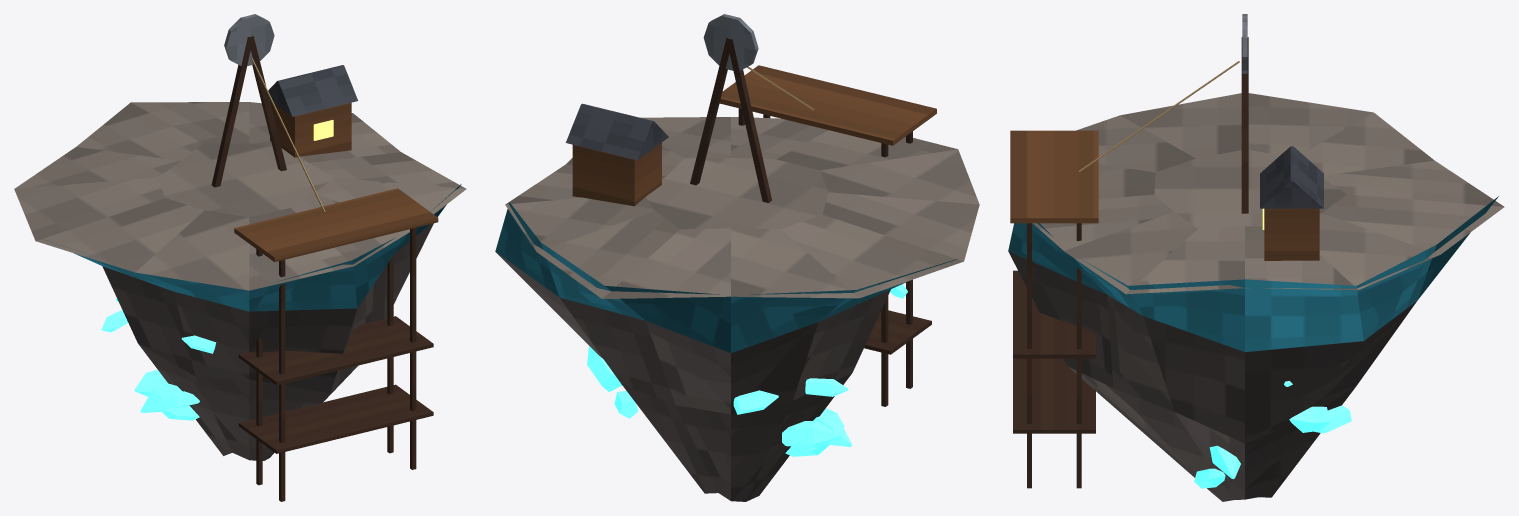
The model's file is SM_Env_LiftMine_HQ.glb.
The picture shows the model from 3 angles, left to right: view 1: azimuth 30°, elevation 25°; view 2: azimuth 150°, elevation 25°; view 3: azimuth 270°, elevation 25°; orthographic projection. The views are drawn at different scales.
Parts seen in each view (by area): view 1: SM_Env_LiftMine_HQ; view 2: SM_Env_LiftMine_HQ; view 3: SM_Env_LiftMine_HQ.
Part boxes in pixels (left/top/right/bottom): SM_Env_LiftMine_HQ: left=14, top=14, right=466, bottom=501; SM_Env_LiftMine_HQ: left=495, top=14, right=979, bottom=501; SM_Env_LiftMine_HQ: left=1008, top=14, right=1504, bottom=501.
Size of the model in its own units: 17.75 by 19.11 by 17.97.
Materials: 1 (1 with a texture image).
